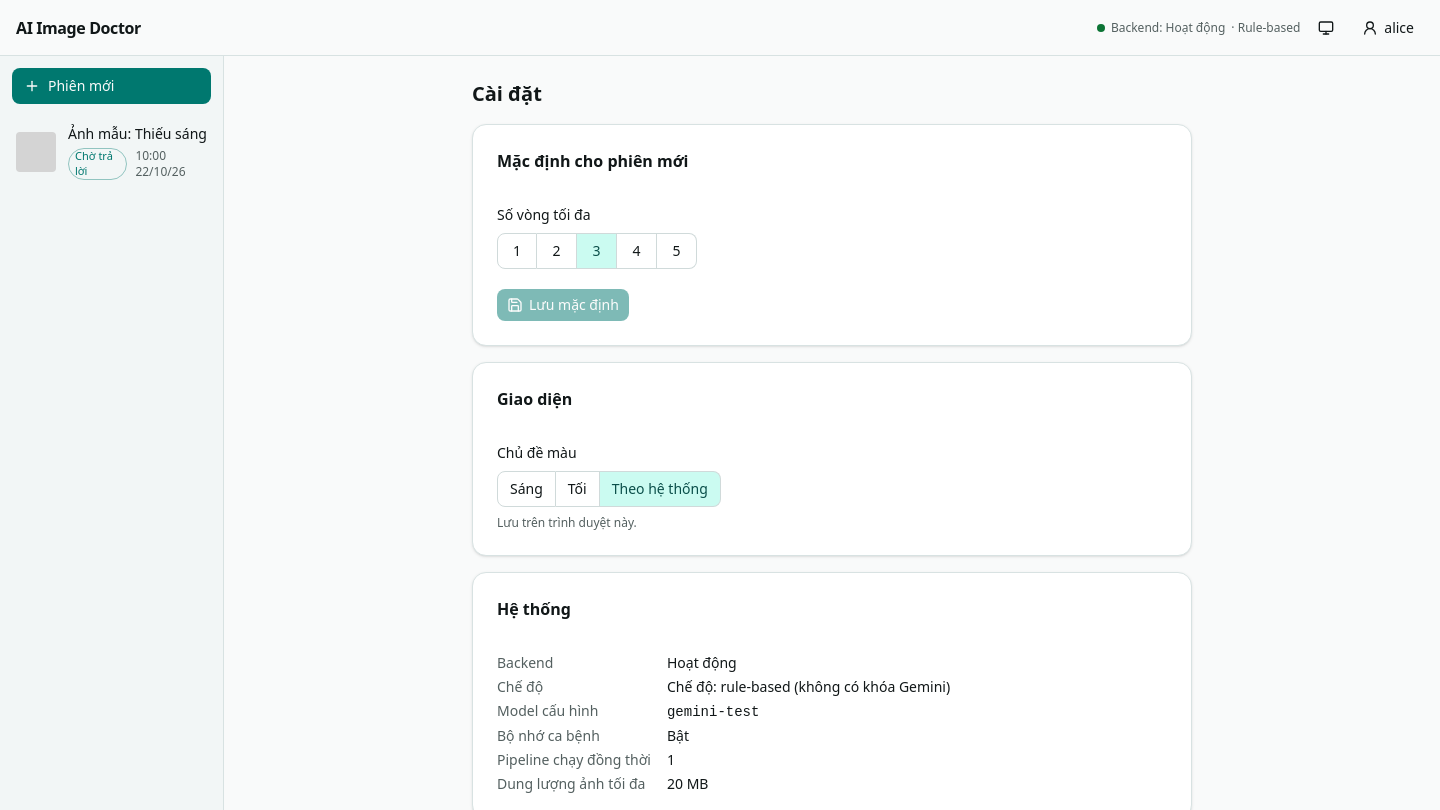
Scenario: backend indicator › switches to disconnected after a failed request and offers a retry
Expected: the text "Backend: Hoạt động" is shown, [1111,20,1225,36]
Click the radio button labelled "2" at (557, 251), box [537,233,577,269]
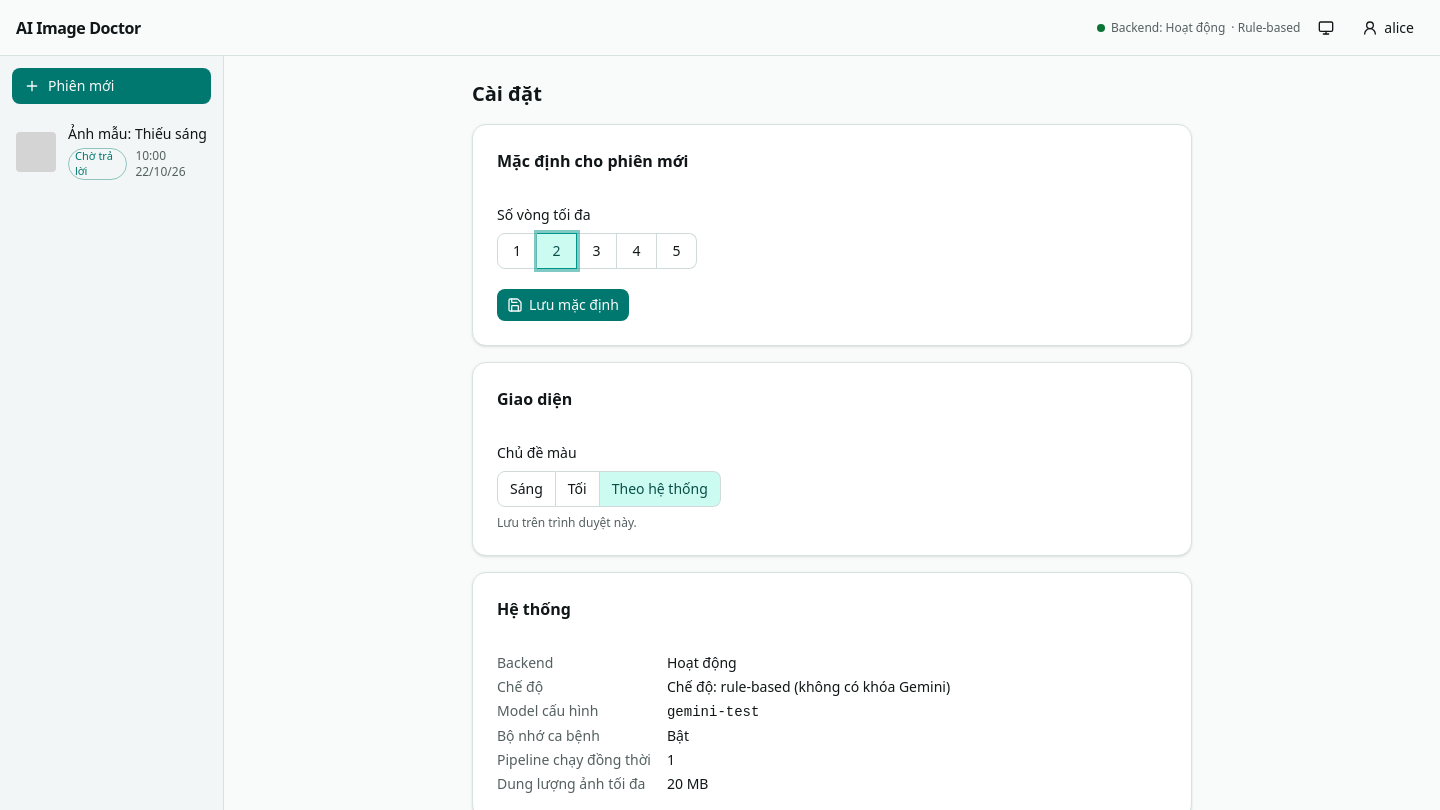
Click the button "Lưu mặc định" at (563, 305), box [497,289,629,321]
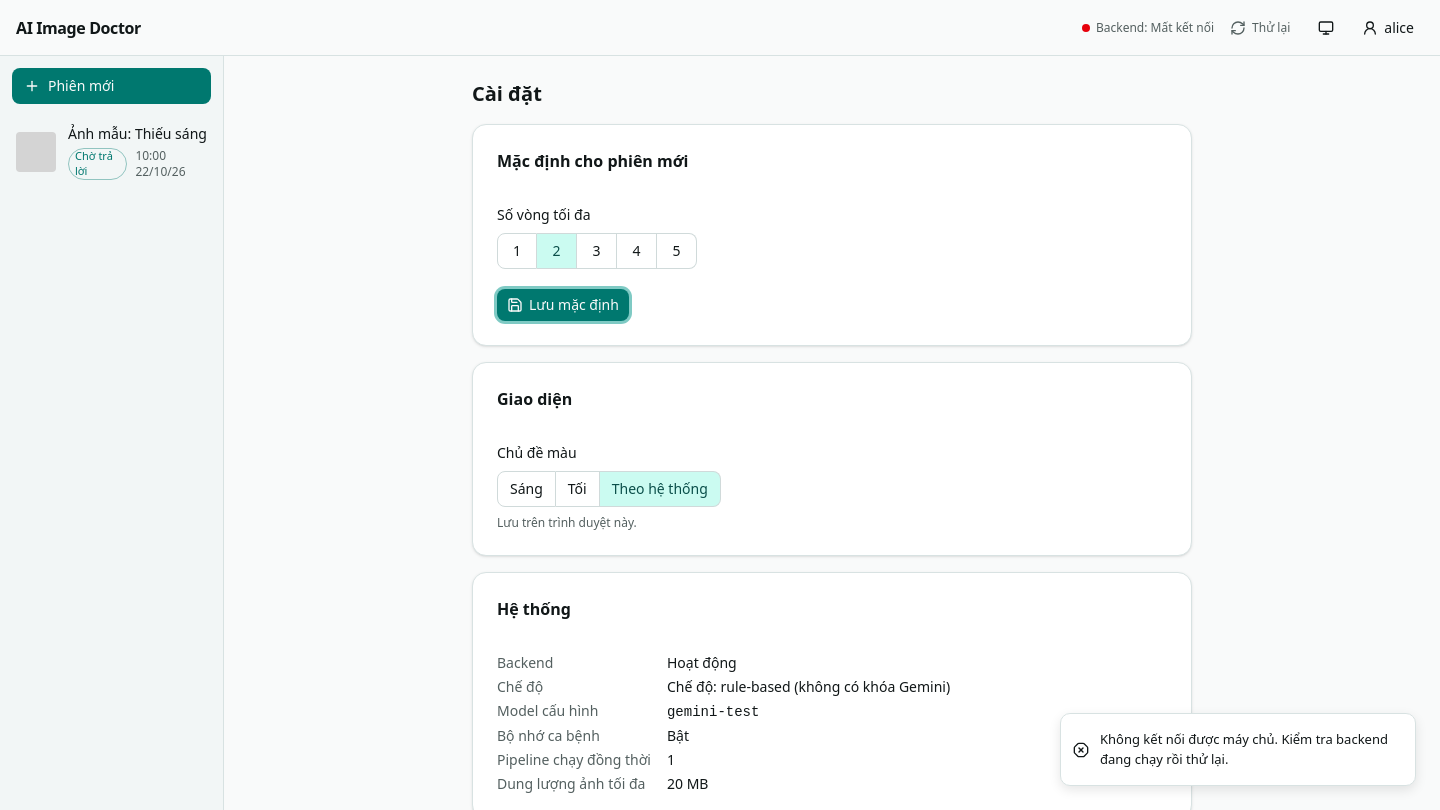
Result: the text "Backend: Mất kết nối" is shown at [1096,20,1214,36]
Result: the button "Thử lại" is shown at [1220,14,1300,42]
